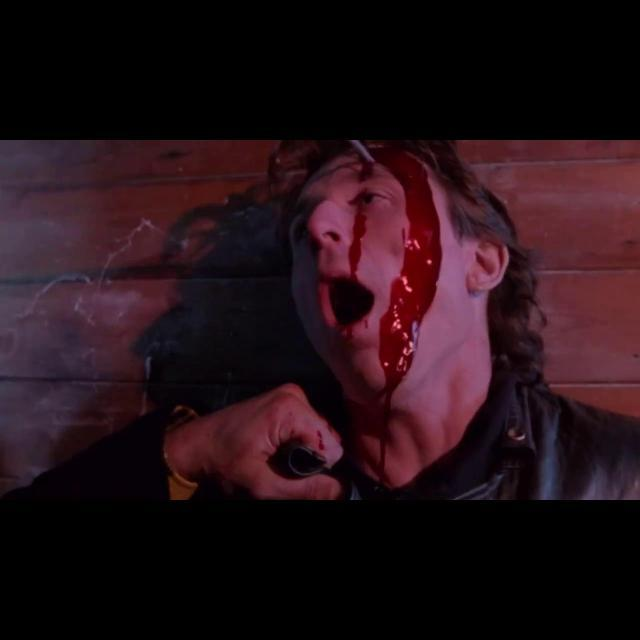blood: (362, 146, 442, 395), (349, 212, 366, 275), (380, 392, 390, 478), (317, 430, 324, 450), (342, 328, 352, 337), (364, 322, 368, 329)
